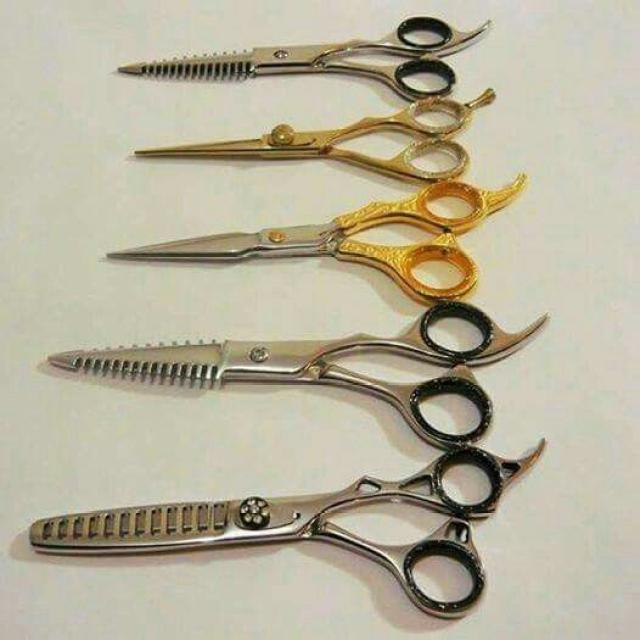scissor: (112, 0, 481, 101)
